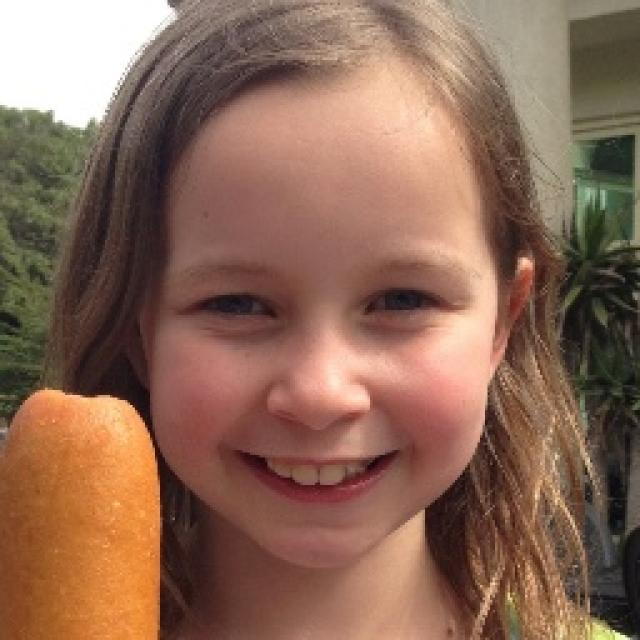earlobe: (132, 360, 147, 391), (488, 357, 501, 389)
eye: (195, 290, 277, 321), (357, 290, 450, 316)
nose: (264, 405, 372, 451)
wholeear: (490, 253, 536, 388)
